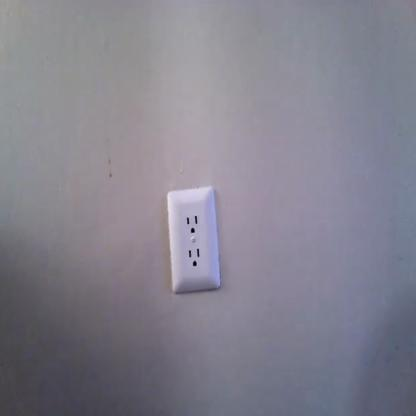OUTLET: (167, 188, 220, 291)
